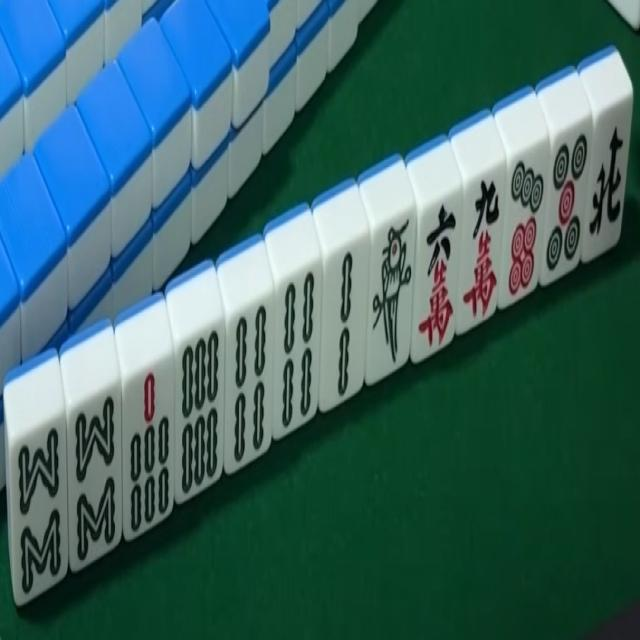m6: (415, 198, 460, 355)
m9: (464, 169, 504, 324)
north: (588, 108, 630, 256)
s1: (368, 215, 413, 376)
s2: (323, 247, 364, 410)
s4: (230, 301, 278, 471), (275, 267, 320, 436)
s6: (176, 328, 227, 500)
s7: (124, 364, 176, 538)
s8: (8, 424, 66, 606), (68, 392, 122, 566)
t5: (545, 126, 587, 281)
t7: (504, 146, 548, 301)
